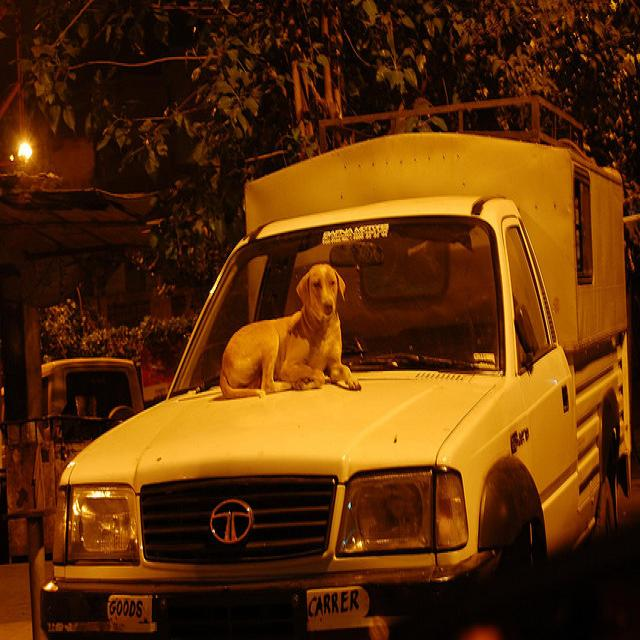Dog: (222, 291, 367, 436)
